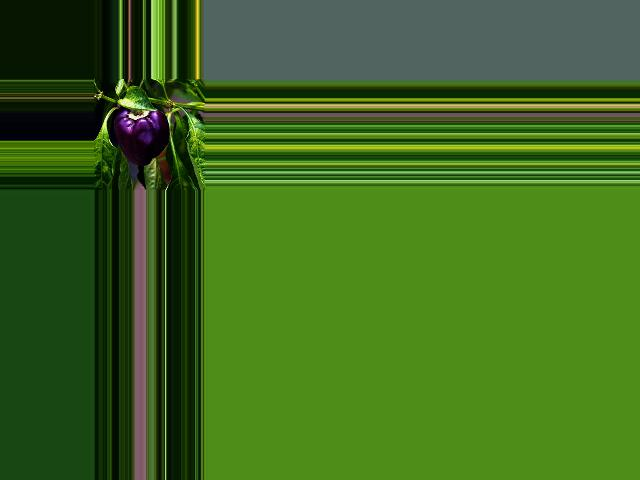bell_pepper: (114, 101, 171, 168)
